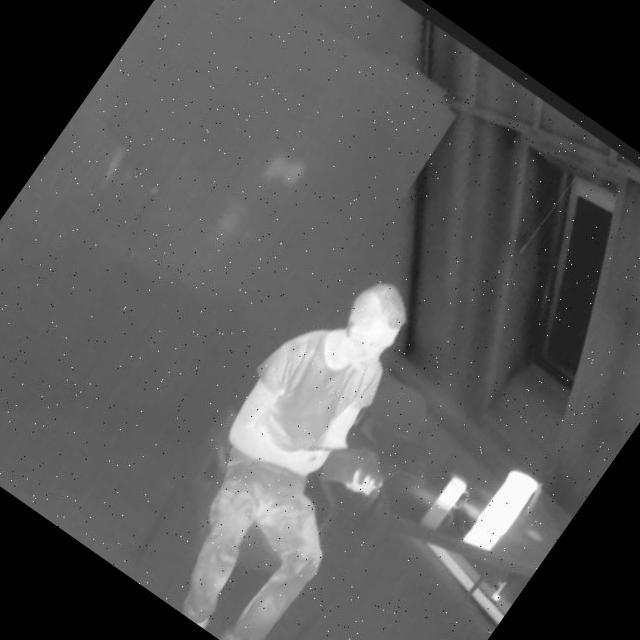person: (117, 241, 488, 640)
